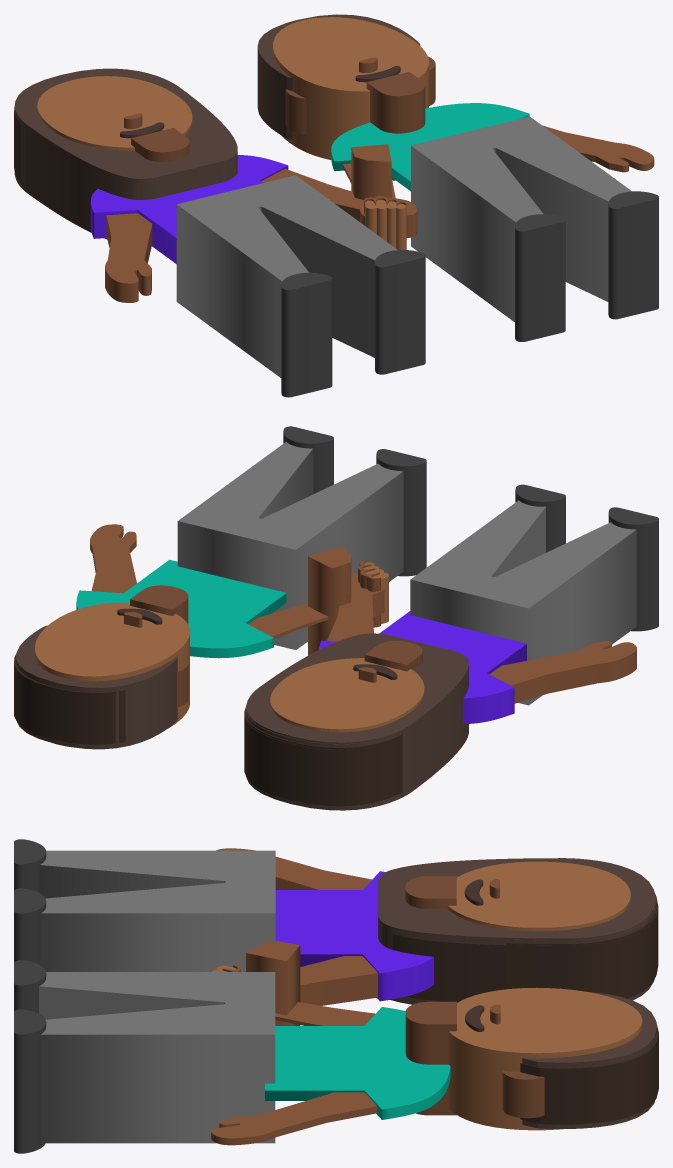
Rendered from emoji_u1f46b_1f3fe.glb.
3 renders of one model, top to bottom at view 1: azimuth 30°, elevation 25°; view 2: azimuth 150°, elevation 25°; view 3: azimuth 270°, elevation 25°, orthographic. The views are drawn at different scales.
Visible parts, largest first — view 1: emoji_u1f46b_1f3fe; view 2: emoji_u1f46b_1f3fe; view 3: emoji_u1f46b_1f3fe.
Boxes of the visible parts, <box> form: emoji_u1f46b_1f3fe: <box>14,14,658,397</box>; emoji_u1f46b_1f3fe: <box>14,426,658,810</box>; emoji_u1f46b_1f3fe: <box>14,839,658,1153</box>.
Size of the model in its own units: 0.0346 by 0.0068 by 0.0334.
